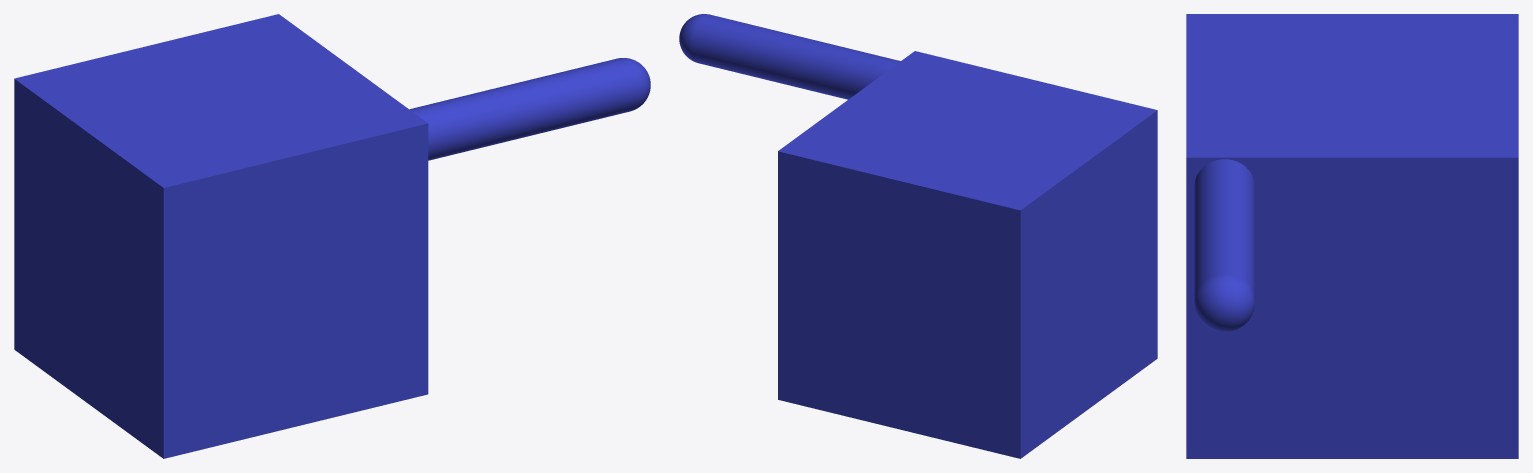
3 renders of one model, left to right at view 1: azimuth 30°, elevation 25°; view 2: azimuth 150°, elevation 25°; view 3: azimuth 270°, elevation 25°, orthographic. The views are drawn at different scales.
Parts seen in each view (by area): view 1: root (×2); view 2: root (×2); view 3: root (×2).
Boxes of the visible parts, x1=… form: root (×2): x1=14, y1=14, x2=650, y2=458; root (×2): x1=679, y1=14, x2=1157, y2=458; root (×2): x1=1186, y1=14, x2=1518, y2=458.
Bounding box in the file's own units: 0.3421 × 0.1769 × 0.1769.
